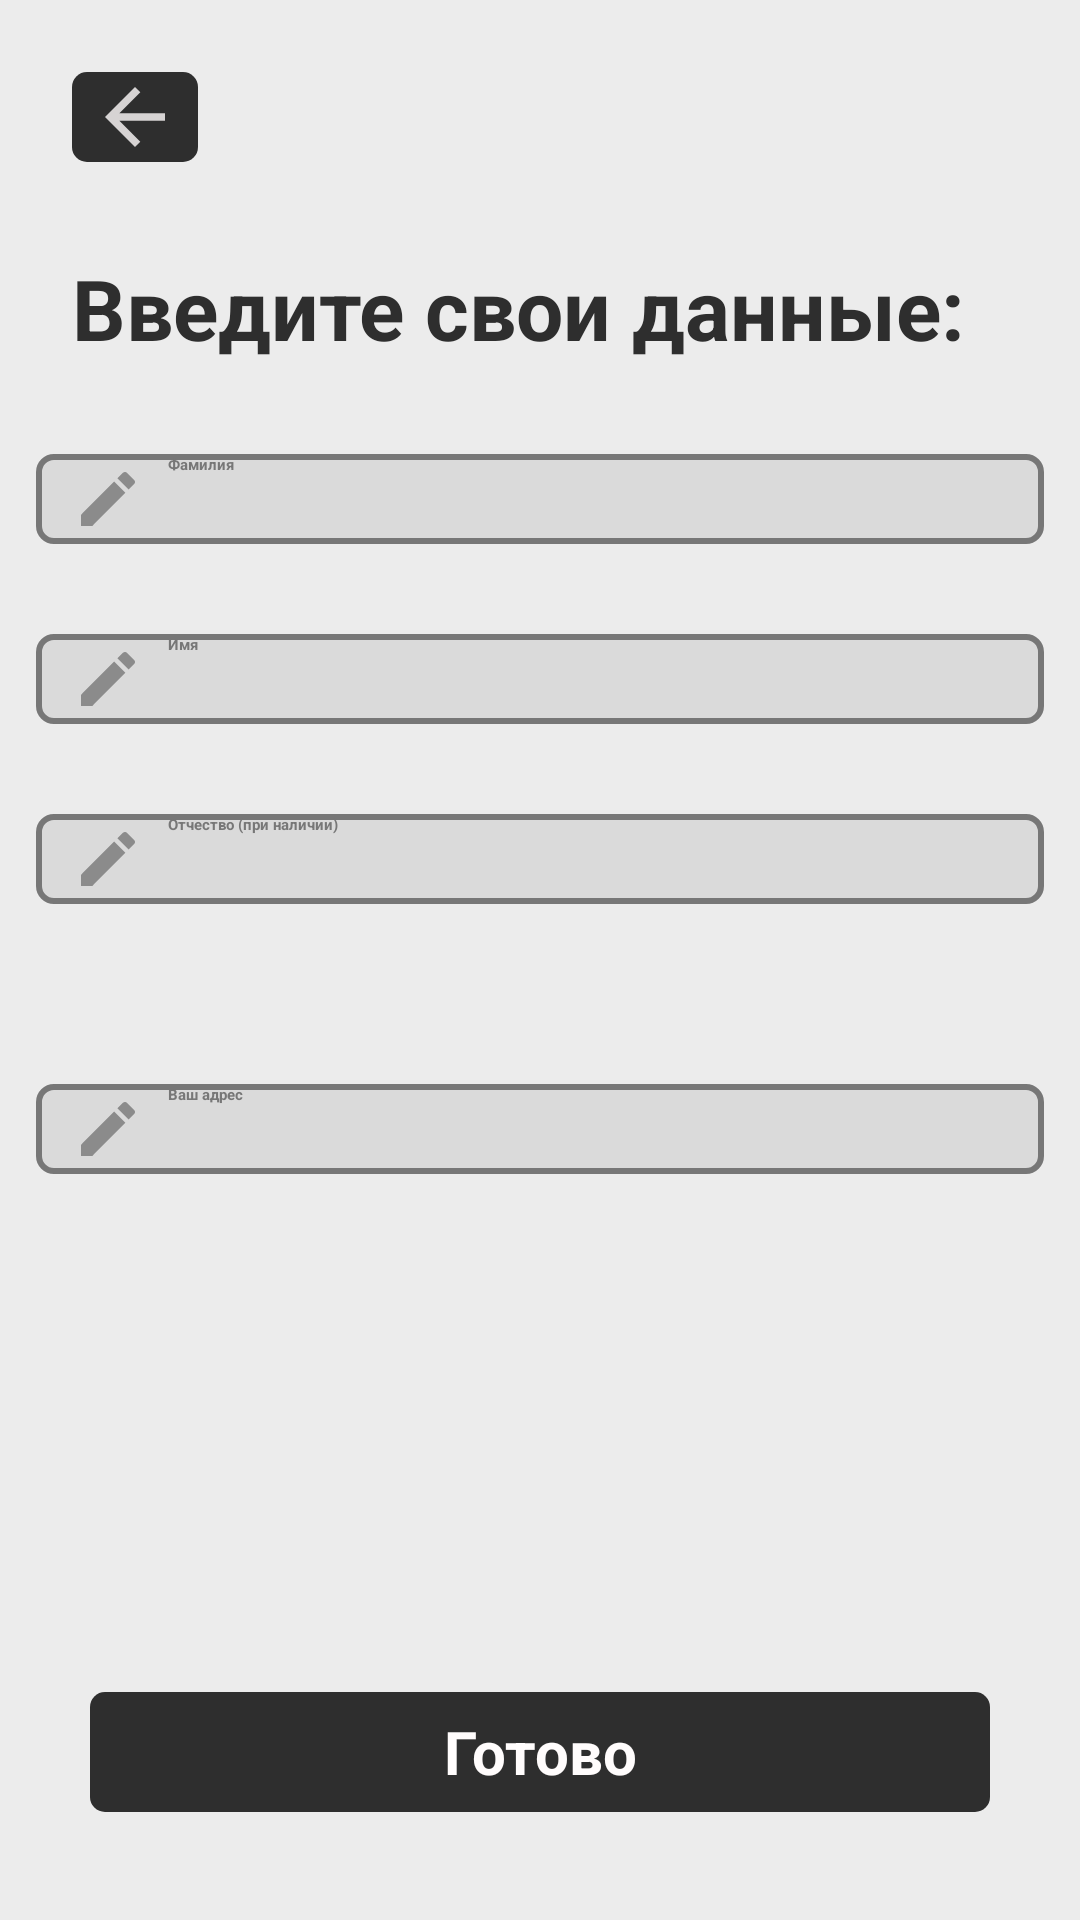

Screen size 1080x1920. Icon name, then its box in pixels as (x1, y1, x2, y2):
back: (72, 72, 198, 162)
